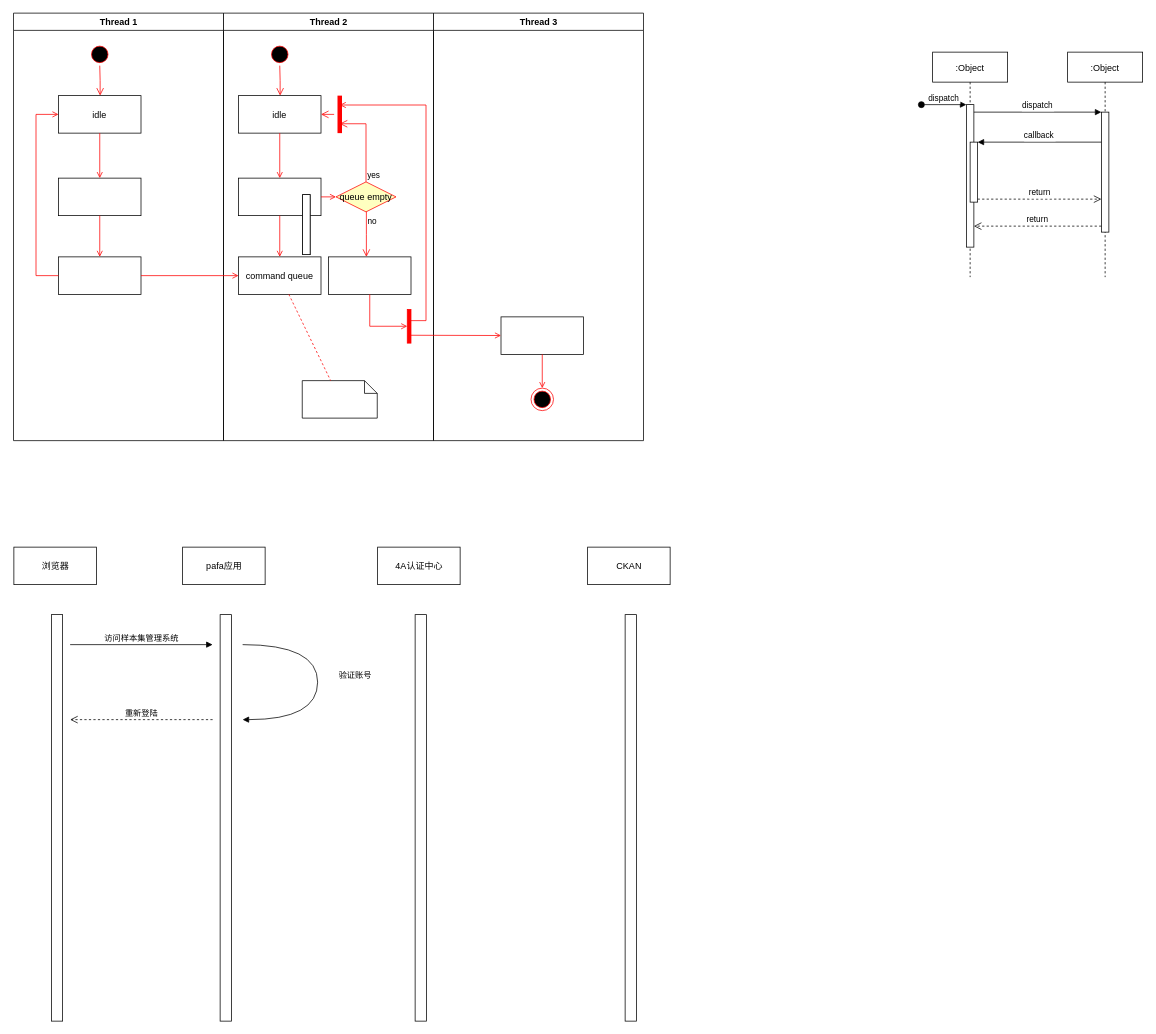
This 1156x1034 diagram has some shape labels left out. The centre of each missing label's shape, as x and y in pixels:
"check for new commands" goes at (x=279, y=196).
"critical section" goes at (x=339, y=399).
"dispatch command worker thread" goes at (x=369, y=275).
"post command" goes at (x=99, y=275).
"process command" goes at (x=542, y=335).
"user action" goes at (x=99, y=196).
